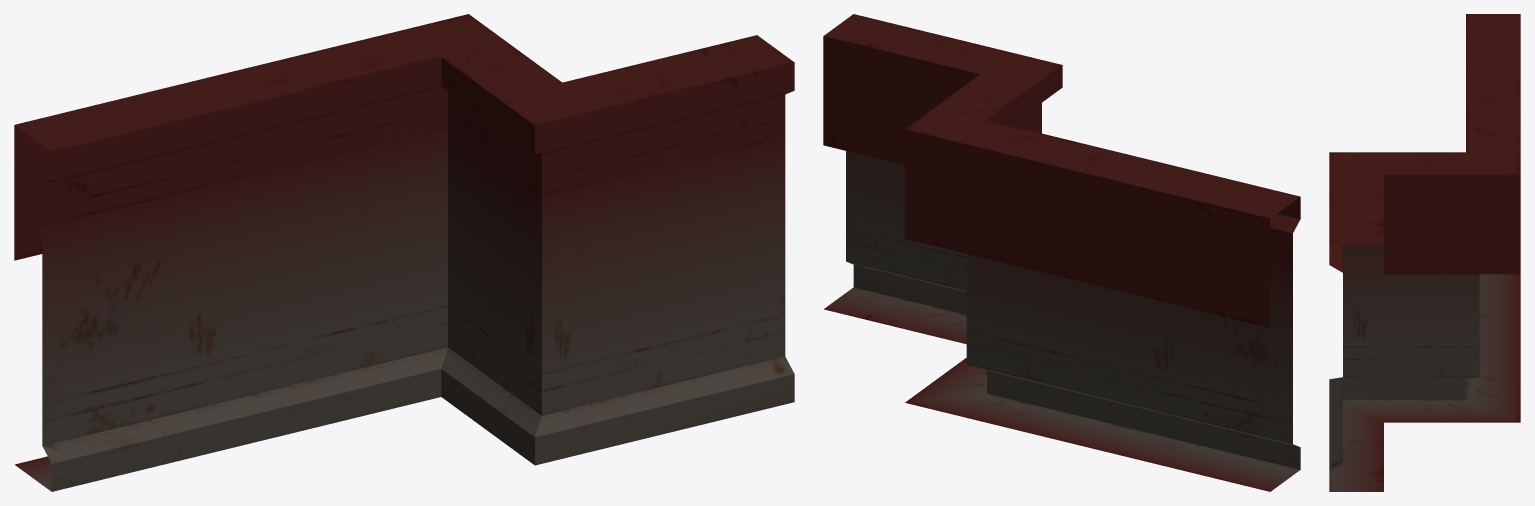
Rendered from Cornice_Metal_90Angle_R.gltf.
The picture shows the model from 3 angles, left to right: view 1: azimuth 30°, elevation 25°; view 2: azimuth 150°, elevation 25°; view 3: azimuth 270°, elevation 25°; orthographic projection. The views are drawn at different scales.
Visible parts, largest first — view 1: Cornice_Metal_90Angle_R; view 2: Cornice_Metal_90Angle_R; view 3: Cornice_Metal_90Angle_R.
Boxes of the visible parts, bbox=[...] form: Cornice_Metal_90Angle_R: bbox=[14, 14, 794, 491]; Cornice_Metal_90Angle_R: bbox=[823, 14, 1300, 491]; Cornice_Metal_90Angle_R: bbox=[1329, 14, 1520, 491].
Bounding box in the file's own units: 2 × 1 × 0.7.
1 material, 1 textured.
